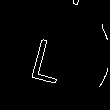L_N: (33, 27, 77, 83)
